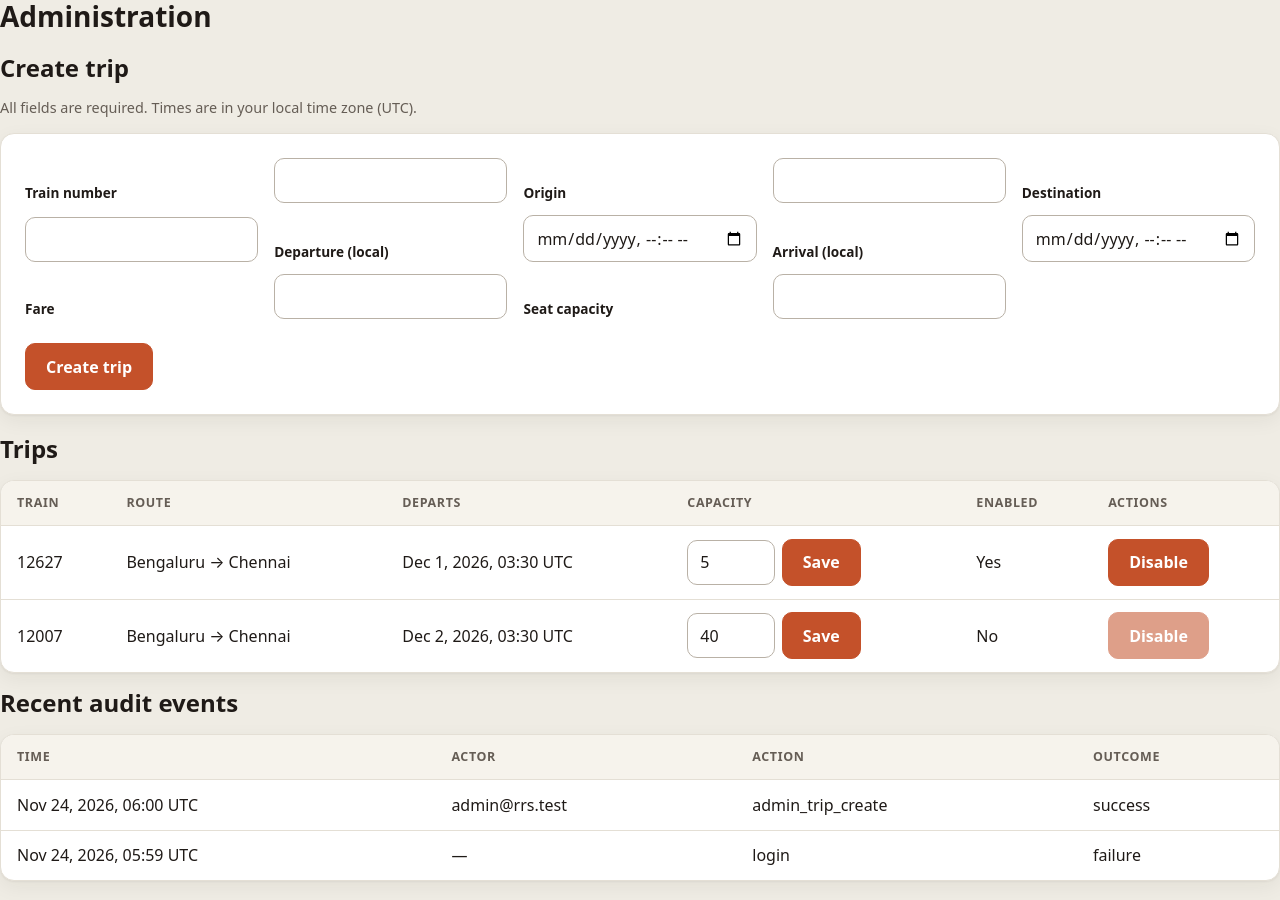
Test: administration page › a capacity below a confirmed seat is refused with the server message
Replace the text in the number field named "Capacity for 12627" in the row of "12627" with "1" at (731, 562), box [687,540,775,585]
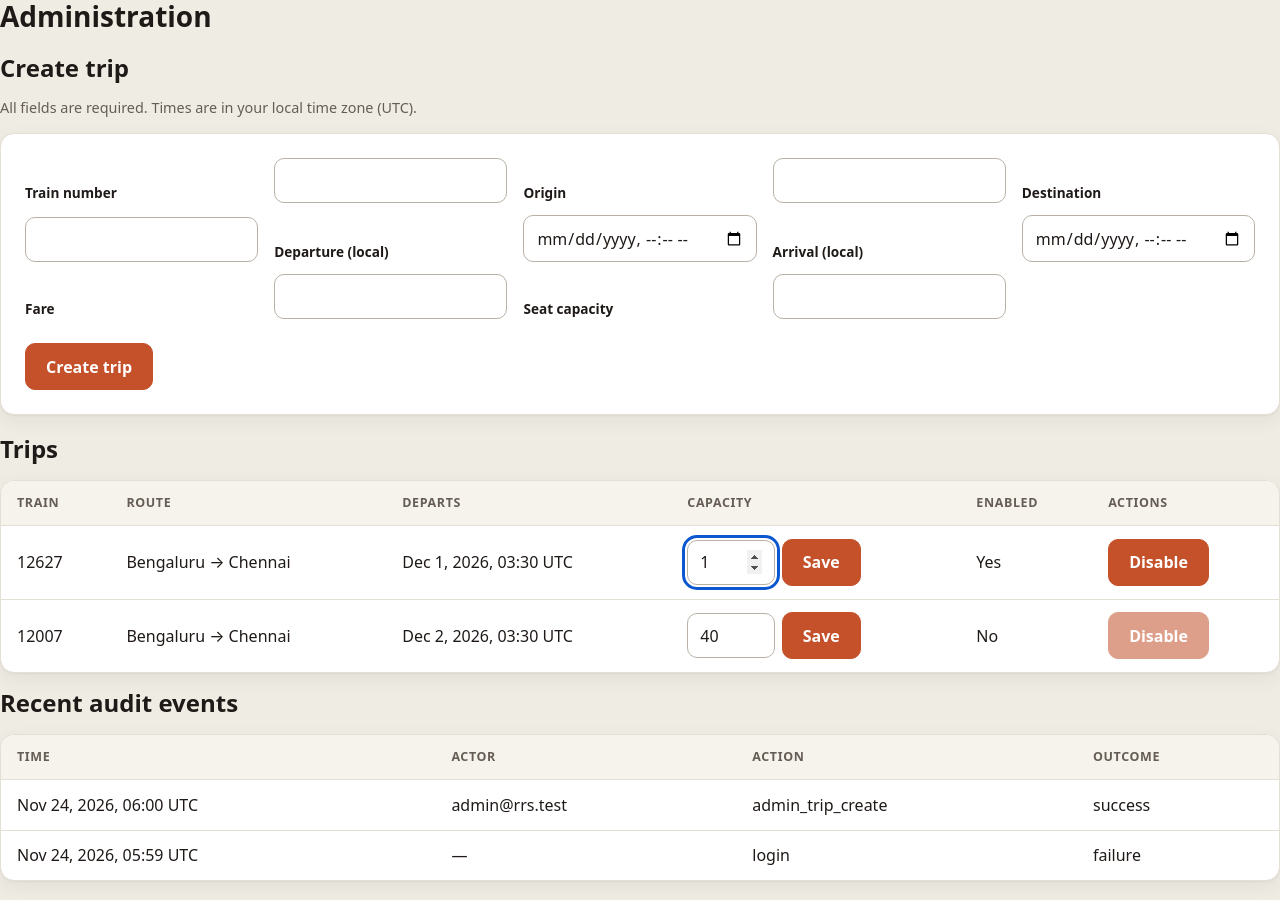
Click the button "Save" in the row of "12627" at (821, 562), box [782,539,861,586]
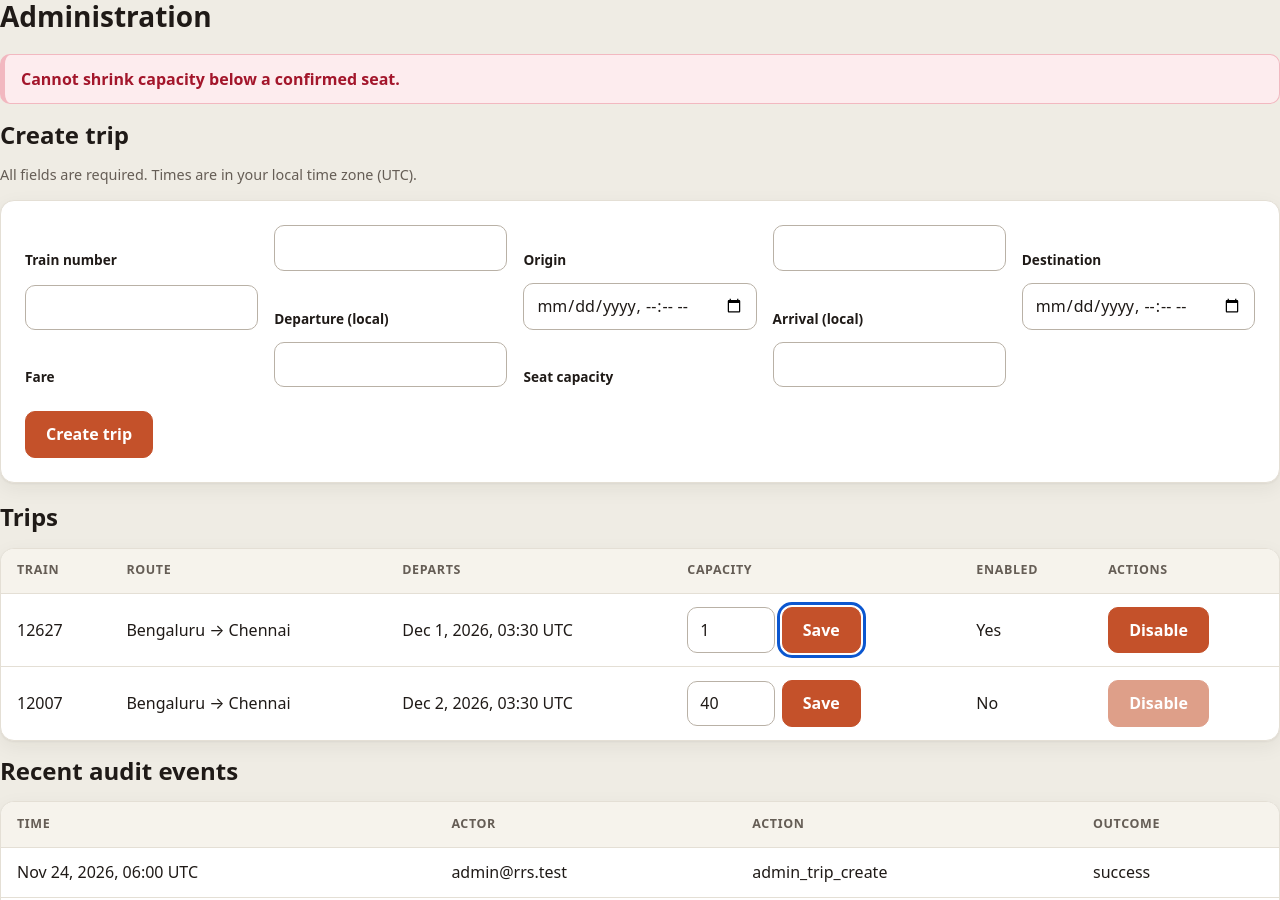
Expected: the message reads "Cannot shrink capacity below a confirmed seat.", [21,68,400,90]
